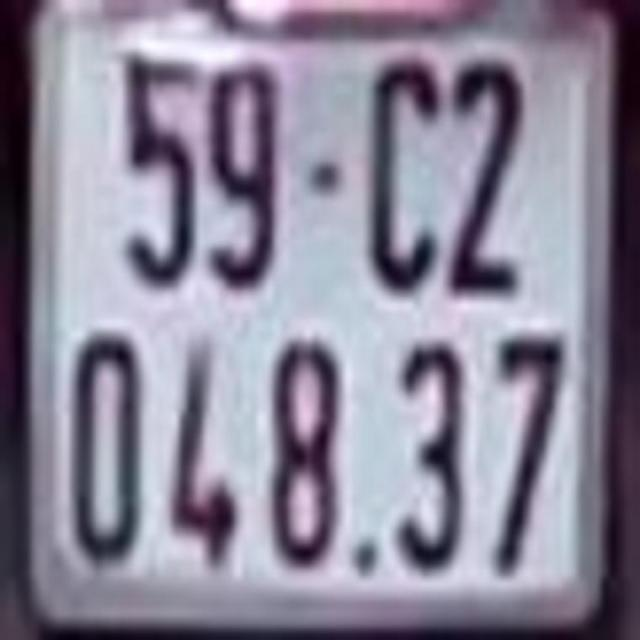0: (68, 331, 144, 560)
2: (453, 50, 520, 297)
3: (395, 339, 463, 568)
4: (174, 338, 241, 564)
5: (125, 50, 198, 281)
7: (497, 330, 564, 577)
8: (269, 338, 336, 573)
9: (208, 56, 277, 282)
C: (371, 58, 441, 289)
